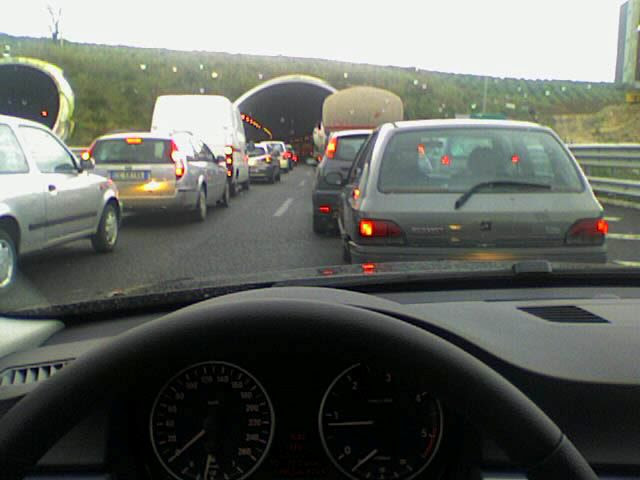car: (1, 68, 631, 476)
